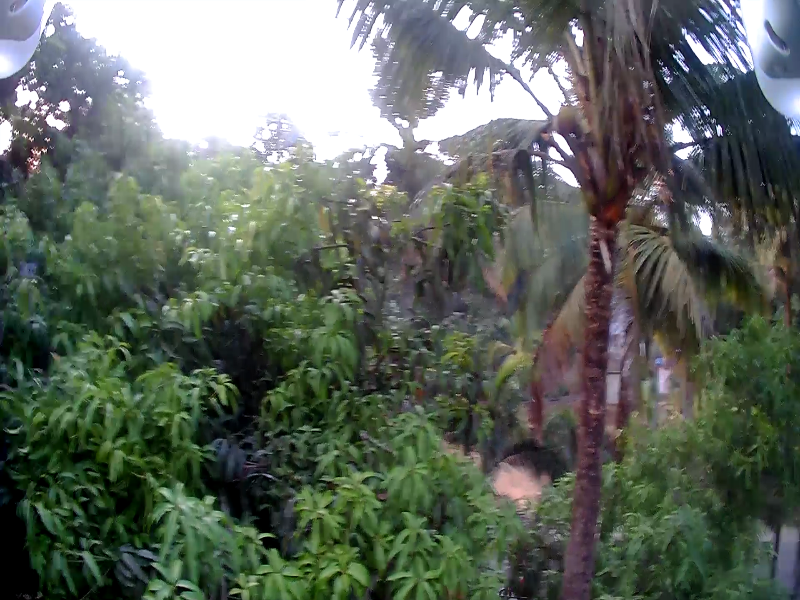coconut: (550, 106, 575, 136)
